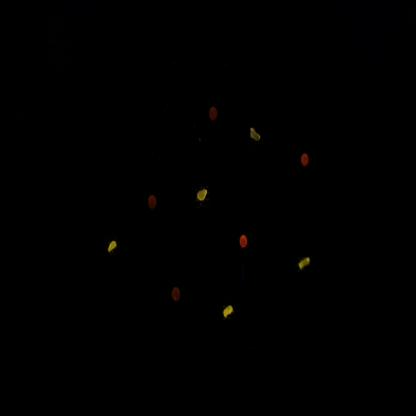PP: (216, 289, 244, 330), (243, 115, 267, 160), (101, 226, 126, 265), (296, 243, 321, 281), (193, 174, 214, 214)
PS: (298, 144, 316, 181), (144, 185, 163, 218), (235, 225, 254, 257), (168, 278, 185, 312), (208, 100, 222, 129)
